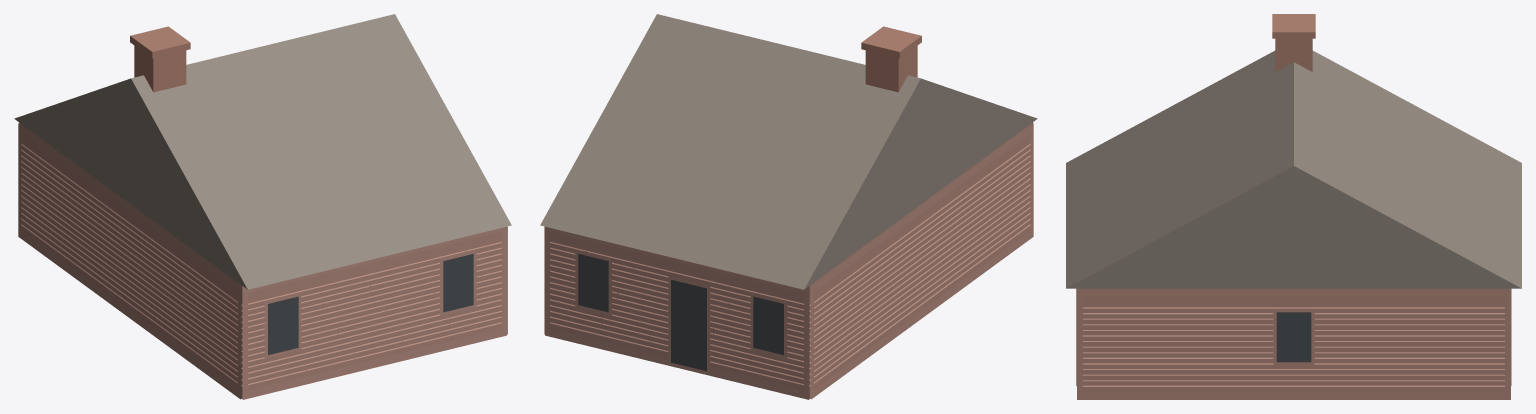
The model's file is recon_1835_north_d5_041__inferred_1835.glb.
3 renders of one model, left to right at view 1: azimuth 30°, elevation 25°; view 2: azimuth 150°, elevation 25°; view 3: azimuth 270°, elevation 25°, orthographic. The views are drawn at different scales.
Visible parts, largest first — view 1: recon_1835_north_d5_041__inferred_1835; view 2: recon_1835_north_d5_041__inferred_1835; view 3: recon_1835_north_d5_041__inferred_1835.
Boxes of the visible parts, left/top/right/bottom form: recon_1835_north_d5_041__inferred_1835: left=14, top=14, right=511, bottom=399; recon_1835_north_d5_041__inferred_1835: left=540, top=14, right=1037, bottom=399; recon_1835_north_d5_041__inferred_1835: left=1066, top=14, right=1521, bottom=399.
Bounding box in the file's own units: 6.81 × 6.62 × 10.33.
